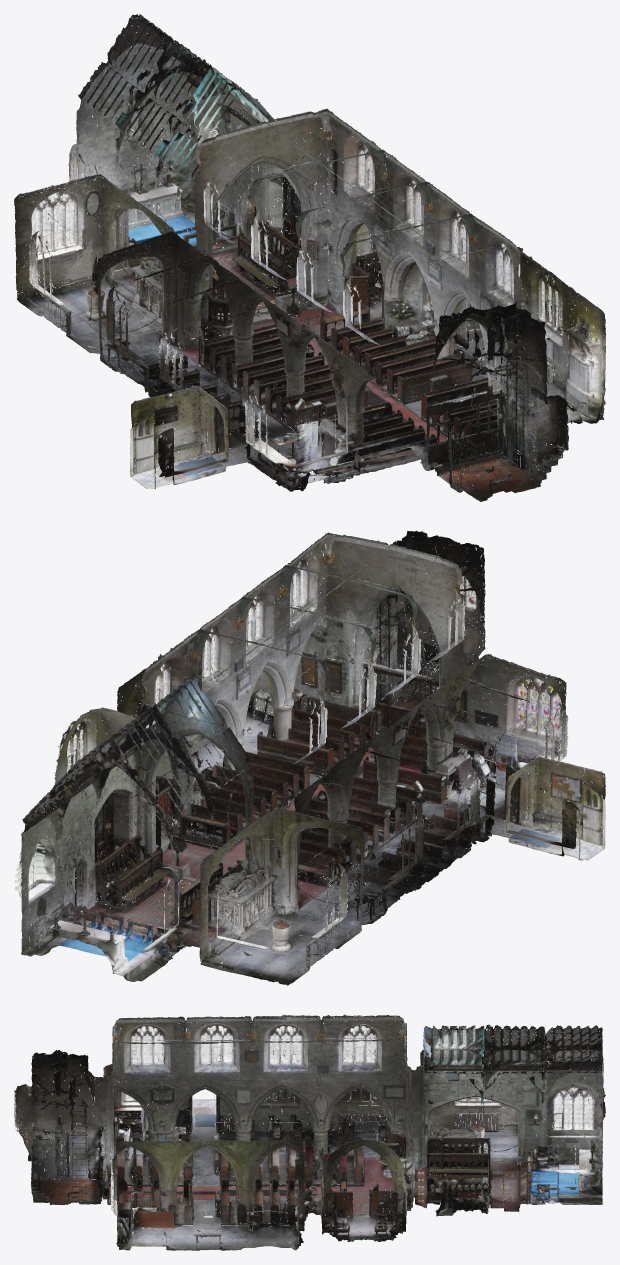
The model's file is church_st_peter.glb.
3 renders of one model, top to bottom at view 1: azimuth 30°, elevation 25°; view 2: azimuth 150°, elevation 25°; view 3: azimuth 270°, elevation 25°, orthographic. The views are drawn at different scales.
Visible parts, largest first — view 1: Object_2, Object_13; view 2: Object_2, Object_13; view 3: Object_2, Object_13.
Boxes of the visible parts, box(x1,y1,x2,y2) form: Object_2: box(14, 14, 605, 501); Object_13: box(14, 14, 605, 498); Object_2: box(14, 531, 605, 981); Object_13: box(14, 530, 605, 985); Object_2: box(14, 1014, 605, 1250); Object_13: box(14, 1014, 605, 1250).
Bounding box in the file's own units: 17.05 × 8.6 × 27.08.
Materials: 2 (2 with a texture image).
